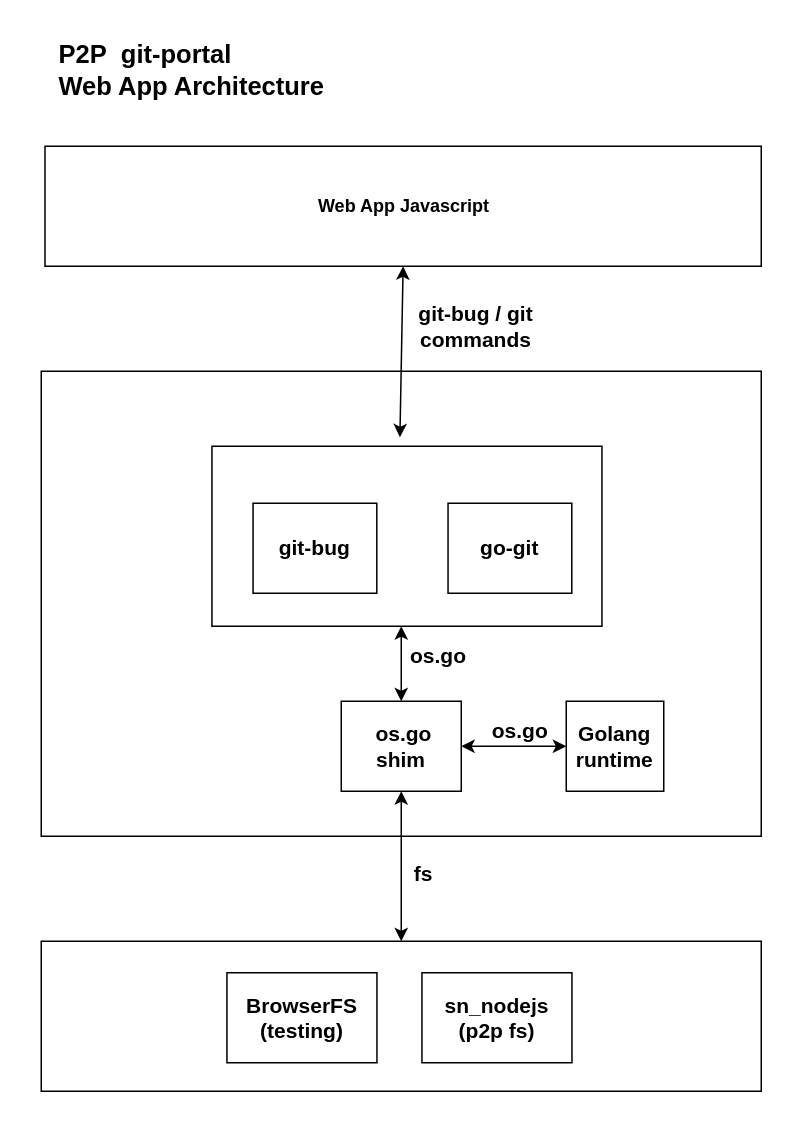
The diagram is 801 pixels wide and 1131 high, and some of its shapes have lost their labels. The shapes that lost their labels are listed below. From the top down, each one's box as (x1, y1, x2, y2) in pixels, then its label:
(210, 445, 602, 626): git-buglib.go
(40, 370, 761, 836): gitbug-golib.wasm (Golang)
(40, 940, 761, 1091): JavaScript APIs
